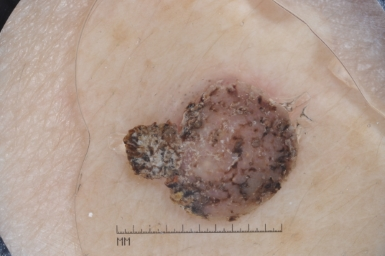seborrheic keratosis: (107, 61, 317, 225)
